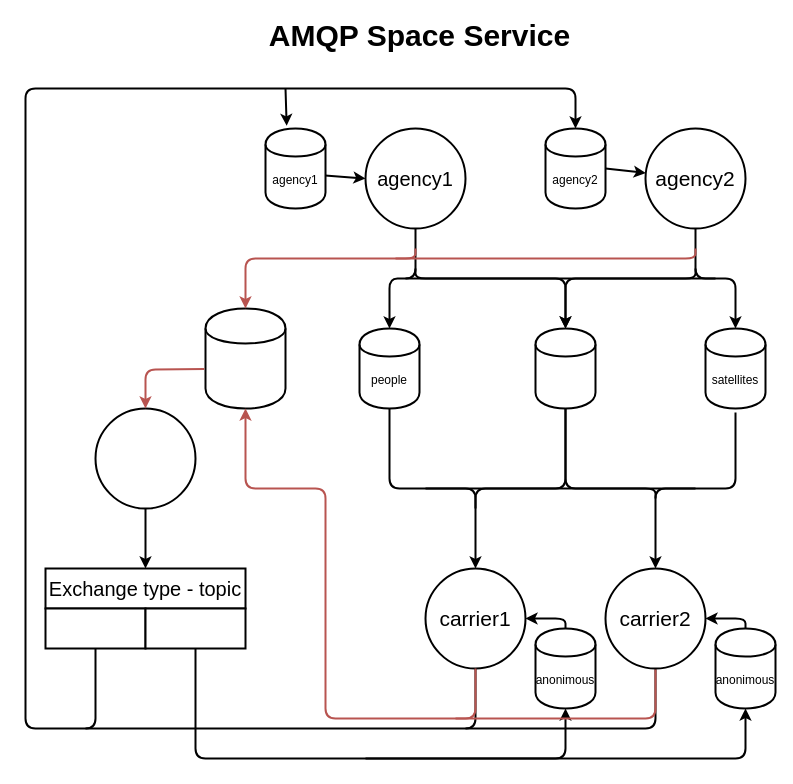
This 793x784 diagram has some shape labels left out. The shapes that lost their labels are listed below. From the top down, each one's centre as x and y in pixels, then its label:
At (x=245, y=358): "adminMonitor".
At (x=565, y=368): "load".
At (x=145, y=458): "admin".
At (x=95, y=628): "*.agency".
At (x=195, y=628): "carrier.*".
